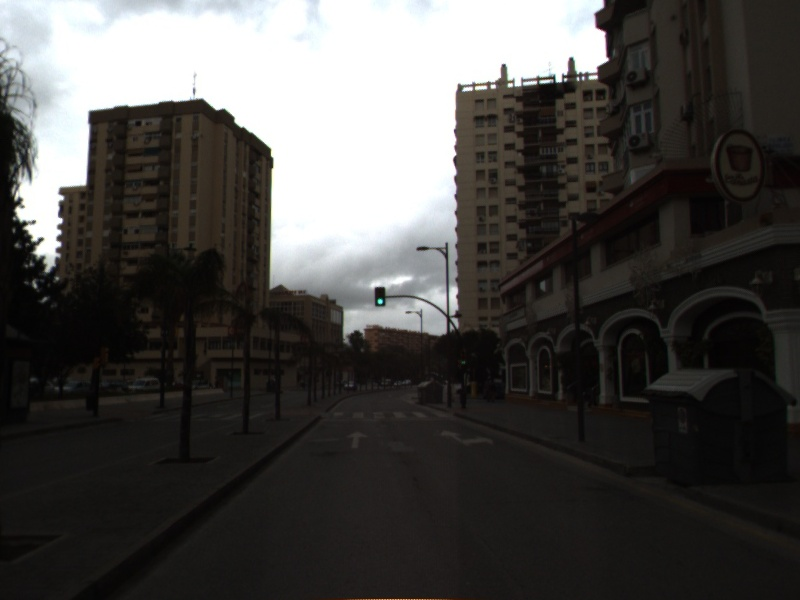STRAIGHT: (343, 429, 371, 451)
STRAIGHT_RIGHT: (438, 427, 497, 449)
